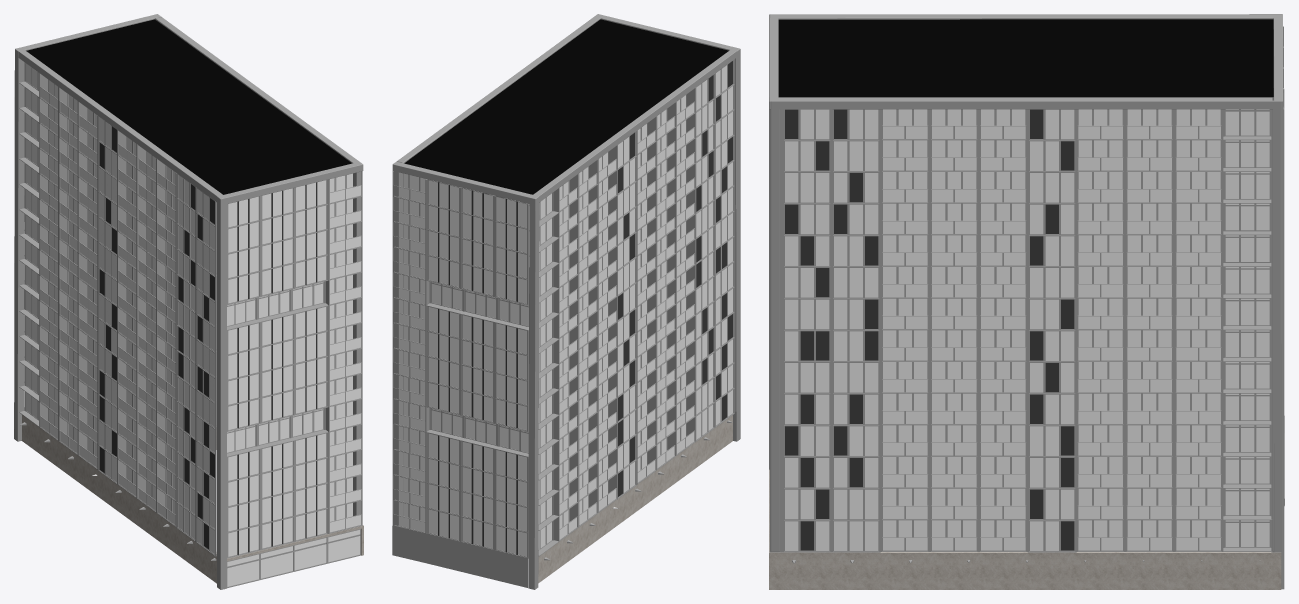
3 views of the same model, side by side, from view 1: azimuth 30°, elevation 25°; view 2: azimuth 150°, elevation 25°; view 3: azimuth 270°, elevation 25° (orthographic). The views are drawn at different scales.
Visible parts, largest first — view 1: Building; view 2: Building; view 3: Building.
Part boxes in pixels (left/top/right/bottom): Building: left=14, top=14, right=363, bottom=589; Building: left=392, top=14, right=740, bottom=589; Building: left=769, top=14, right=1284, bottom=589.
Bounding box in the file's own units: 17.65 × 43.27 × 41.4.
Materials: 6 (1 with a texture image).
